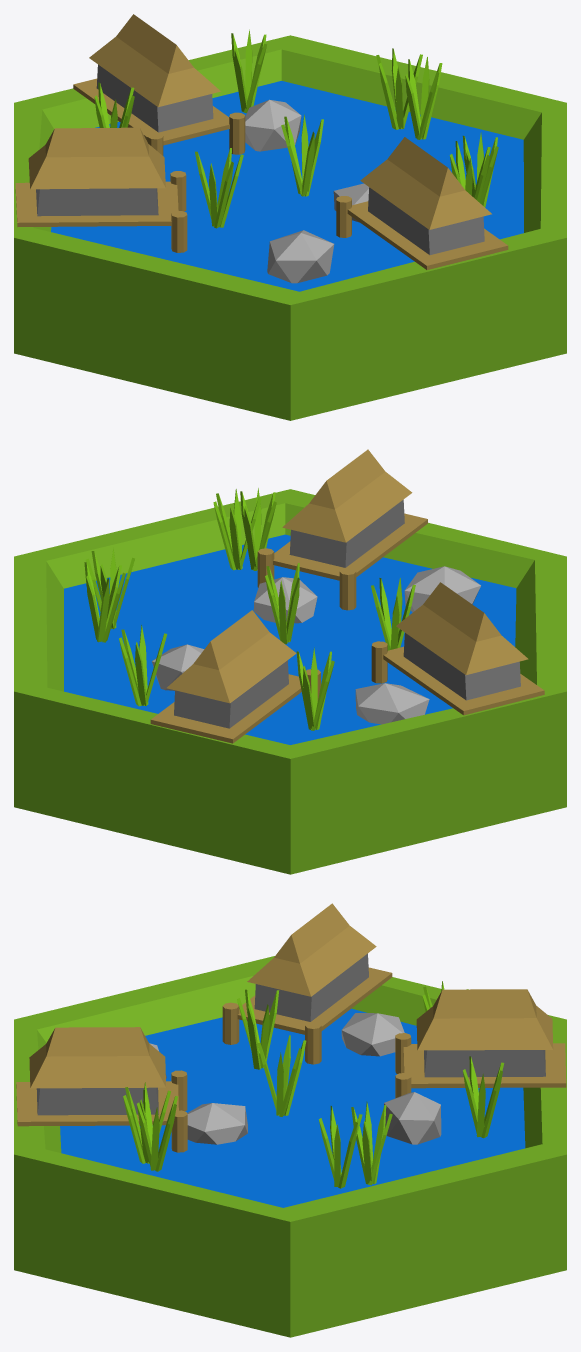
File: Casas_Lago_Cerrado_3.fbx
3 renders of one model, top to bottom at view 1: azimuth 30°, elevation 25°; view 2: azimuth 150°, elevation 25°; view 3: azimuth 270°, elevation 25°, orthographic.
Parts seen in each view (by area): view 1: Casas_Lago_Cerrado_3; view 2: Casas_Lago_Cerrado_3; view 3: Casas_Lago_Cerrado_3.
Boxes of the visible parts, box(x1,y1,x2,y2) form: Casas_Lago_Cerrado_3: box(14, 14, 566, 420); Casas_Lago_Cerrado_3: box(14, 449, 566, 874); Casas_Lago_Cerrado_3: box(14, 903, 566, 1337).
Size of the model in its own units: 200 by 67.29 by 173.
